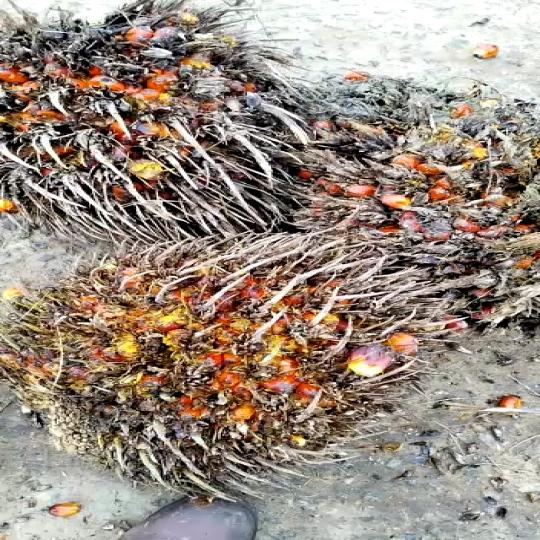terlalu masak: (0, 253, 467, 483), (0, 22, 305, 243)
